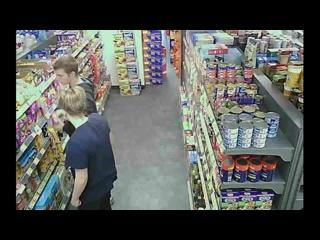shoplifting: (59, 86, 118, 210), (52, 54, 98, 114)
